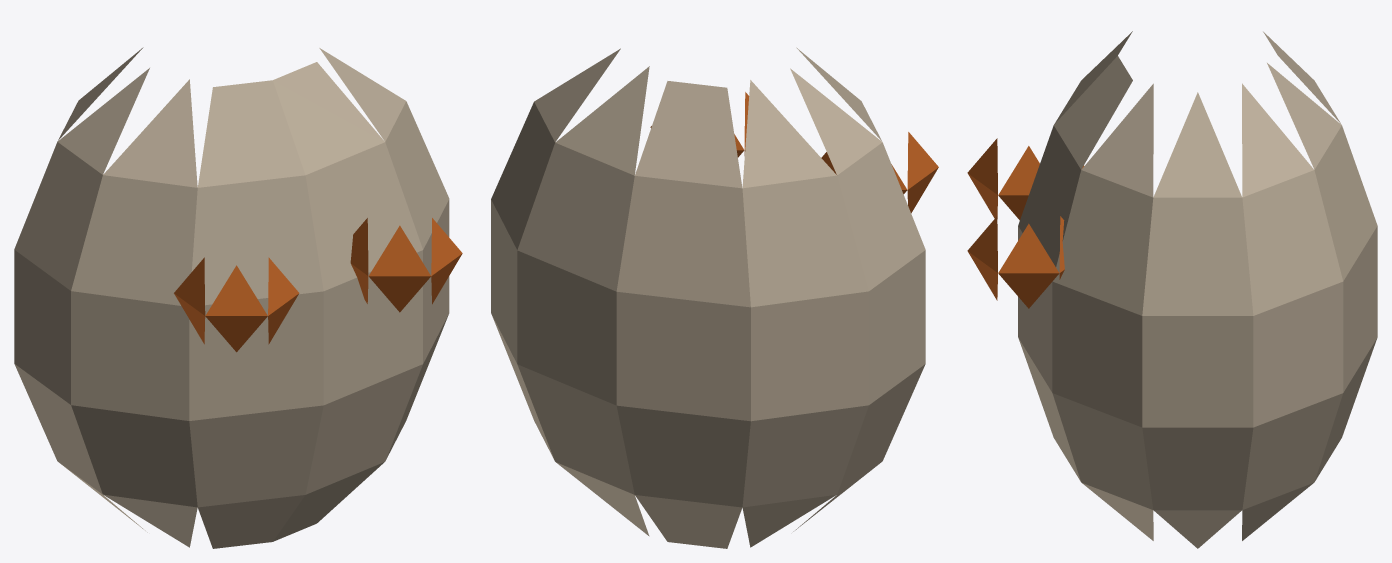
Rendered from droid-uncanniness-motivator.lod.glb.
3 renders of one model, left to right at view 1: azimuth 30°, elevation 25°; view 2: azimuth 150°, elevation 25°; view 3: azimuth 270°, elevation 25°, orthographic. The views are drawn at different scales.
Parts seen in each view (by area): view 1: m; view 2: m; view 3: m.
Boxes of the visible parts, x1,y1,x2,y2 form: m: (14, 47, 462, 548); m: (491, 47, 938, 548); m: (967, 31, 1377, 548).
Bounding box in the file's own units: 0.1 × 0.119 × 0.096.
